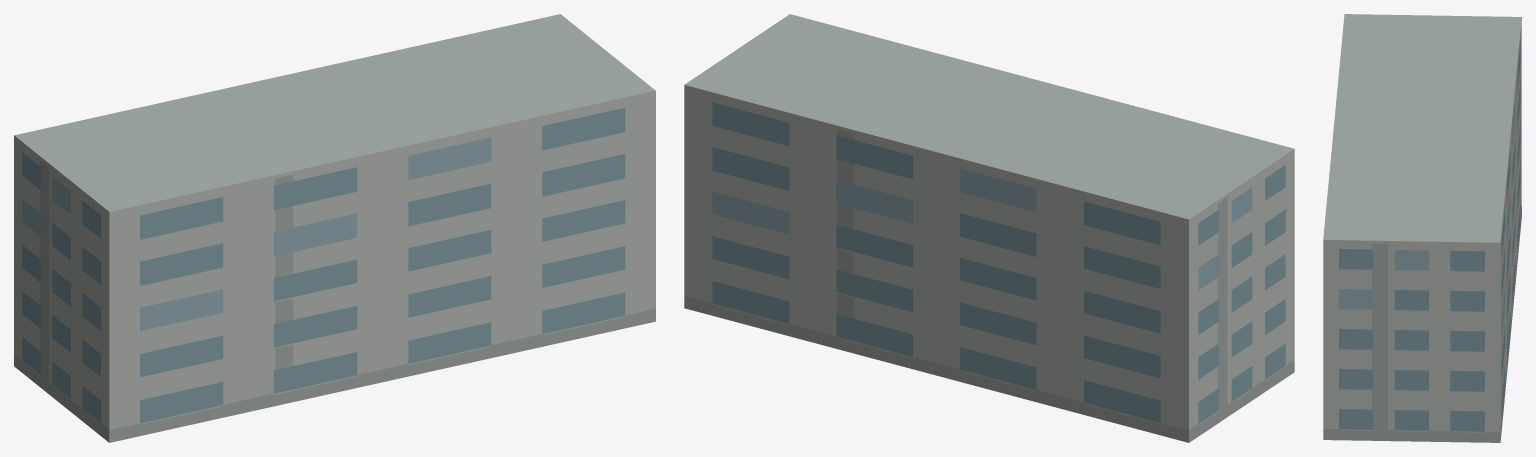
The model's file is residential-bb8060ec-f1f6-426e-896c-0cb4d4501528.glb.
3 renders of one model, left to right at view 1: azimuth 30°, elevation 25°; view 2: azimuth 150°, elevation 25°; view 3: azimuth 270°, elevation 25°, orthographic. The views are drawn at different scales.
Visible parts, largest first — view 1: residential-bb8060ec-f1f6-426e-896c-0cb4d4501528.tmp; view 2: residential-bb8060ec-f1f6-426e-896c-0cb4d4501528.tmp; view 3: residential-bb8060ec-f1f6-426e-896c-0cb4d4501528.tmp.
Boxes of the visible parts, x1,y1,x2,y2 form: residential-bb8060ec-f1f6-426e-896c-0cb4d4501528.tmp: (14,14,655,442); residential-bb8060ec-f1f6-426e-896c-0cb4d4501528.tmp: (684,14,1294,442); residential-bb8060ec-f1f6-426e-896c-0cb4d4501528.tmp: (1323,14,1521,442).
Size of the model in its own units: 37.4 by 15.25 by 13.73.
